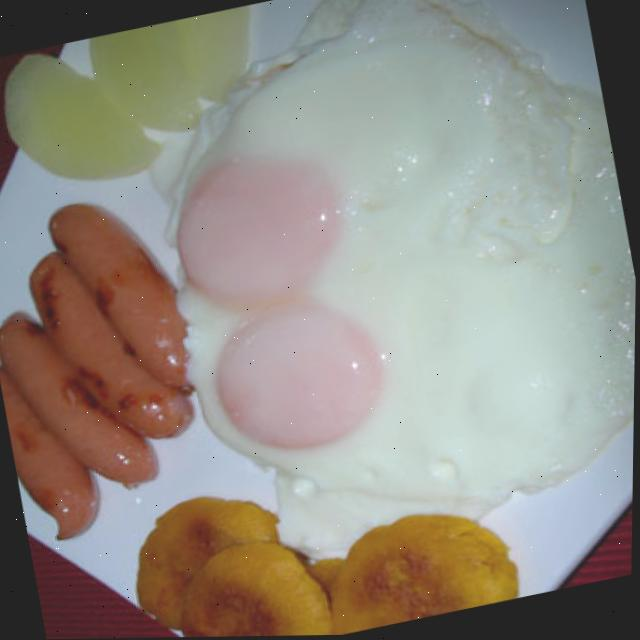鸡蛋料理: (115, 0, 640, 615)
